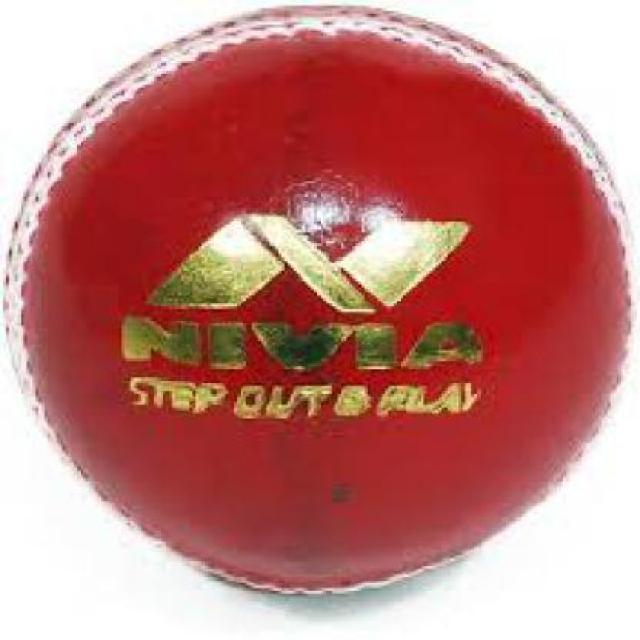ball: (1, 6, 640, 603)
